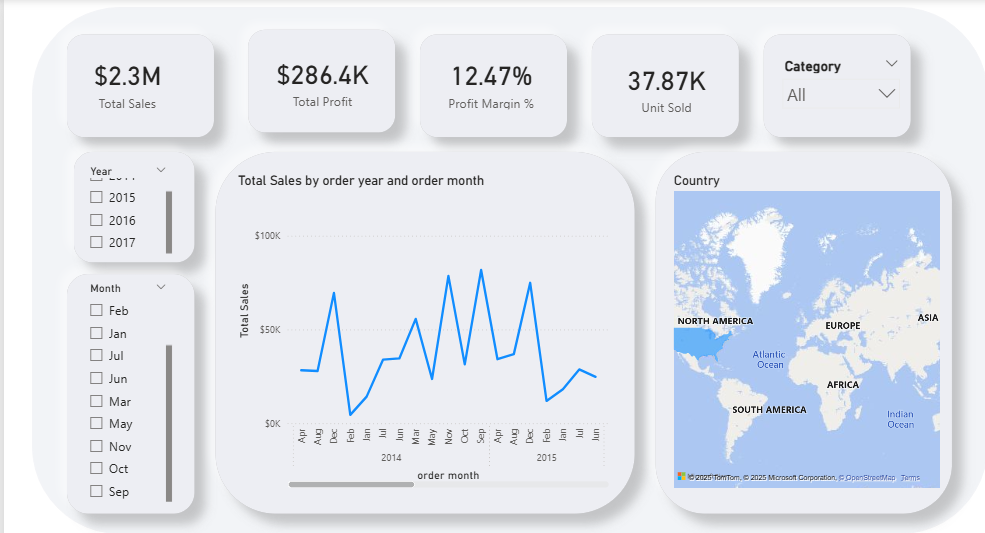

The page's visual inventory and layout, read from the dashboard file:
{"tool":"powerbi","page":{"name":"Page 1","canvas":[1280,720],"ordinal":0},"visuals":[{"type":"card","fields":{"Values":["measure.Total Sales"]},"box":[73.9,68.5,169.8,79.4],"z":0},{"type":"card","fields":{"Values":["measure.Total Profit"]},"box":[344.2,67.3,132.7,80.8],"z":1000},{"type":"card","fields":{"Values":["measure.Profit Margin %"]},"box":[539.5,68.5,175.3,79.4],"z":2000},{"type":"card","fields":{"Values":["measure.Unit Sold"]},"box":[777.7,71.2,150.6,84.9],"z":3000},{"type":"slicer","fields":{"Values":["Sample - Superstore.Category"]},"box":[990.3,71,171,83.9],"z":4000},{"type":"lineChart","fields":{"Y":["measure.Total Sales"],"Category":["Sample - Superstore.order year","Sample - Superstore.order month"]},"box":[295,225,486.7,410],"z":5000},{"type":"filledMap","fields":{"Category":["Sample - Superstore.Country","Sample - Superstore.City","Sample - Superstore.State","Sample - Superstore.Region"]},"box":[854.8,225.8,351.6,409.7],"z":6000},{"type":"slicer","fields":{"Values":["Sample - Superstore.order year"]},"box":[98.3,210,123.3,125],"z":7000},{"type":"slicer","fields":{"Values":["Sample - Superstore.order month"]},"box":[98.3,360,123.3,293.3],"z":8000}]}

Visuals, with their boxes in screenshot pixels (x1, y1, x2, y2):
card - measure.Total Sales: BBox(5, 68, 129, 126)
card - measure.Total Profit: BBox(203, 67, 300, 126)
card - measure.Profit Margin %: BBox(346, 68, 474, 126)
card - measure.Unit Sold: BBox(520, 70, 630, 132)
slicer - Sample - Superstore.Category: BBox(675, 70, 800, 131)
lineChart - measure.Total Sales x Sample - Superstore.order year: BBox(167, 182, 523, 482)
filledMap - Sample - Superstore.Country x Sample - Superstore.City: BBox(576, 183, 833, 482)
slicer - Sample - Superstore.order year: BBox(23, 171, 113, 263)
slicer - Sample - Superstore.order month: BBox(23, 281, 113, 495)
